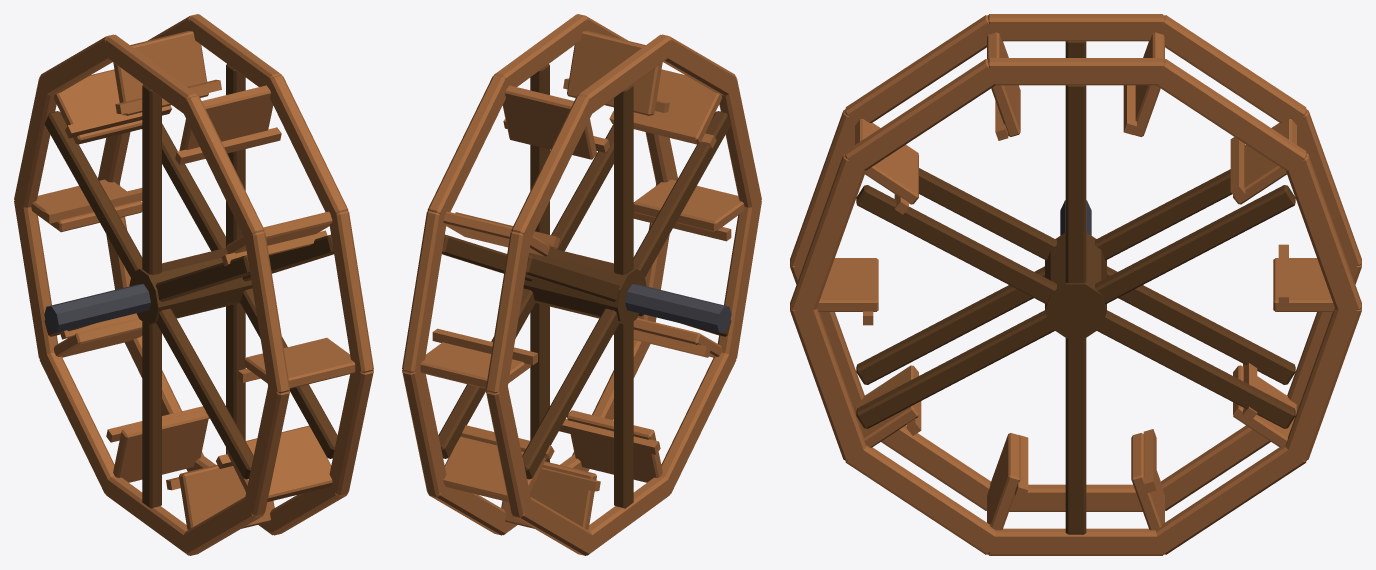
File: WaterWheel.fbx
The picture shows the model from 3 angles, left to right: view 1: azimuth 30°, elevation 25°; view 2: azimuth 150°, elevation 25°; view 3: azimuth 270°, elevation 25°; orthographic projection. The views are drawn at different scales.
Parts seen in each view (by area): view 1: Rim, Paddle, Spoke, Hub, Shaft; view 2: Rim, Paddle, Spoke, Hub, Shaft; view 3: Rim, Spoke, Paddle, Hub.
Boxes of the visible parts, x1=… form: Rim: x1=14, y1=14, x2=373, y2=555; Paddle: x1=31, y1=31, x2=355, y2=529; Spoke: x1=44, y1=64, x2=337, y2=508; Hub: x1=129, y1=248, x2=252, y2=325; Shaft: x1=44, y1=284, x2=150, y2=332; Rim: x1=402, y1=14, x2=761, y2=555; Paddle: x1=420, y1=31, x2=744, y2=529; Spoke: x1=438, y1=64, x2=731, y2=508; Hub: x1=523, y1=248, x2=646, y2=325; Shaft: x1=625, y1=284, x2=731, y2=332; Rim: x1=790, y1=14, x2=1361, y2=555; Spoke: x1=856, y1=40, x2=1295, y2=534; Paddle: x1=817, y1=32, x2=1334, y2=530; Hub: x1=1045, y1=232, x2=1106, y2=338.
Size of the model in its own units: 4.6 by 10.5 by 11.01.
